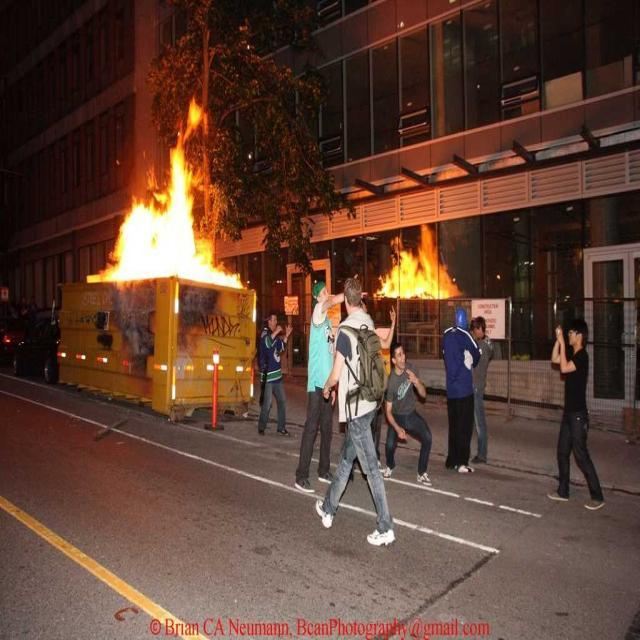Fire: (123, 216, 197, 276), (400, 268, 450, 296)
